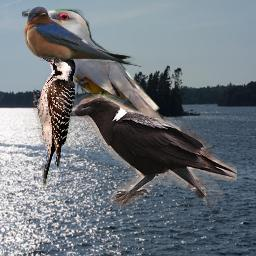Crow: (72, 94, 237, 209)
Cuckoo: (22, 8, 201, 166)
Swallow: (23, 6, 144, 68)
Woodpecker: (33, 51, 78, 189)
